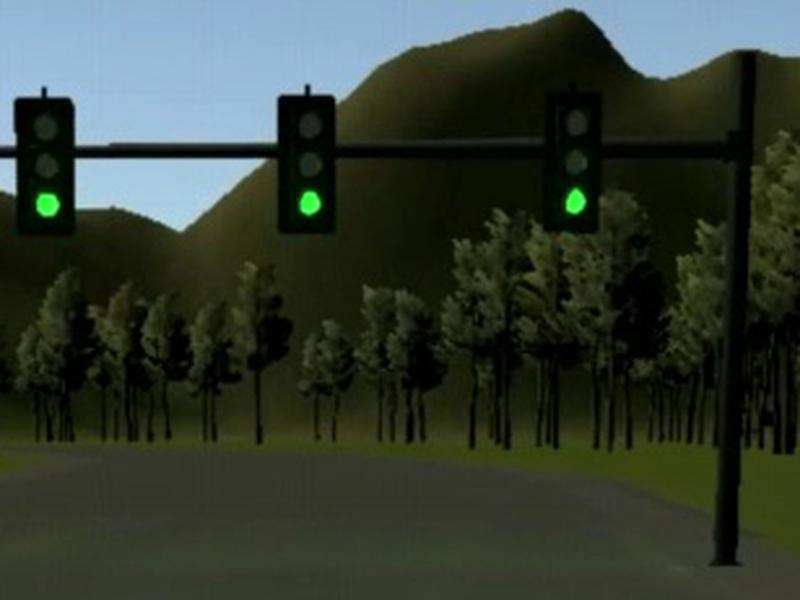Green: (540, 91, 603, 232), (13, 97, 75, 235), (276, 95, 337, 235)
